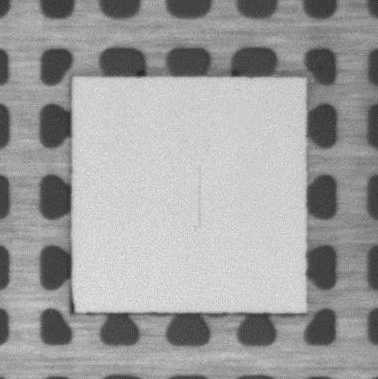DIE_CRACK: (189, 164, 207, 232)
